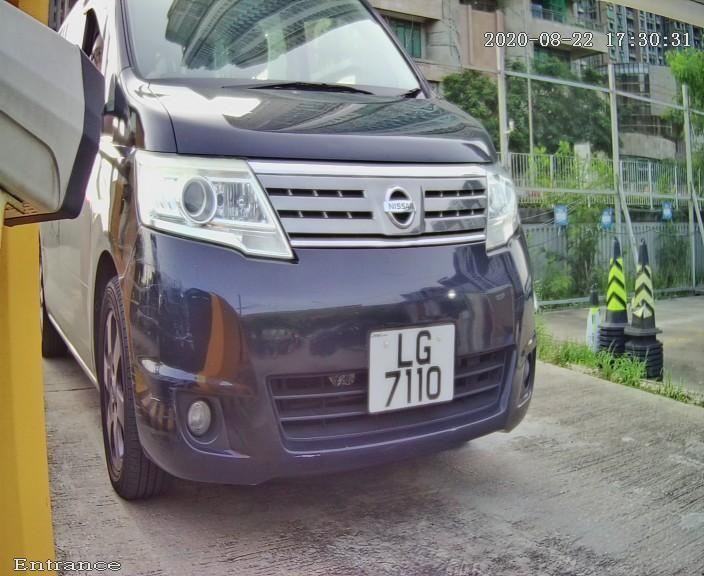Car: (32, 6, 588, 520)
License Plate: (359, 309, 466, 422)
